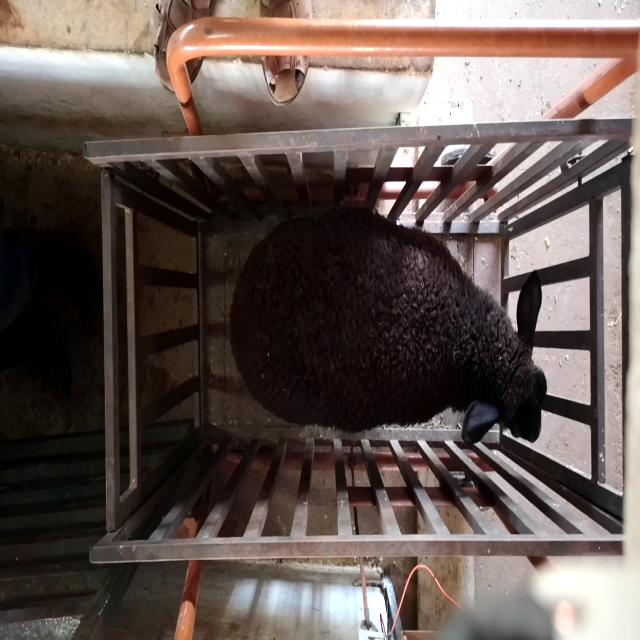sheep: (228, 207, 547, 445)
